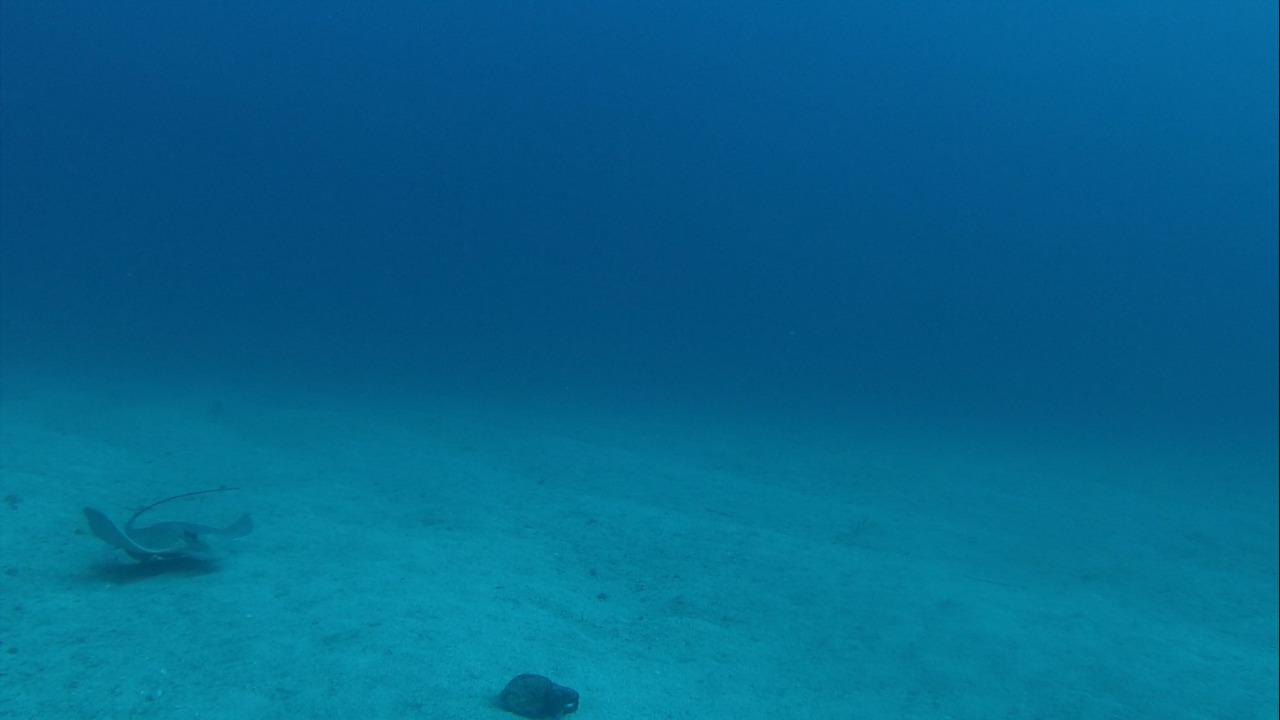myliobatis: (70, 478, 265, 570)
